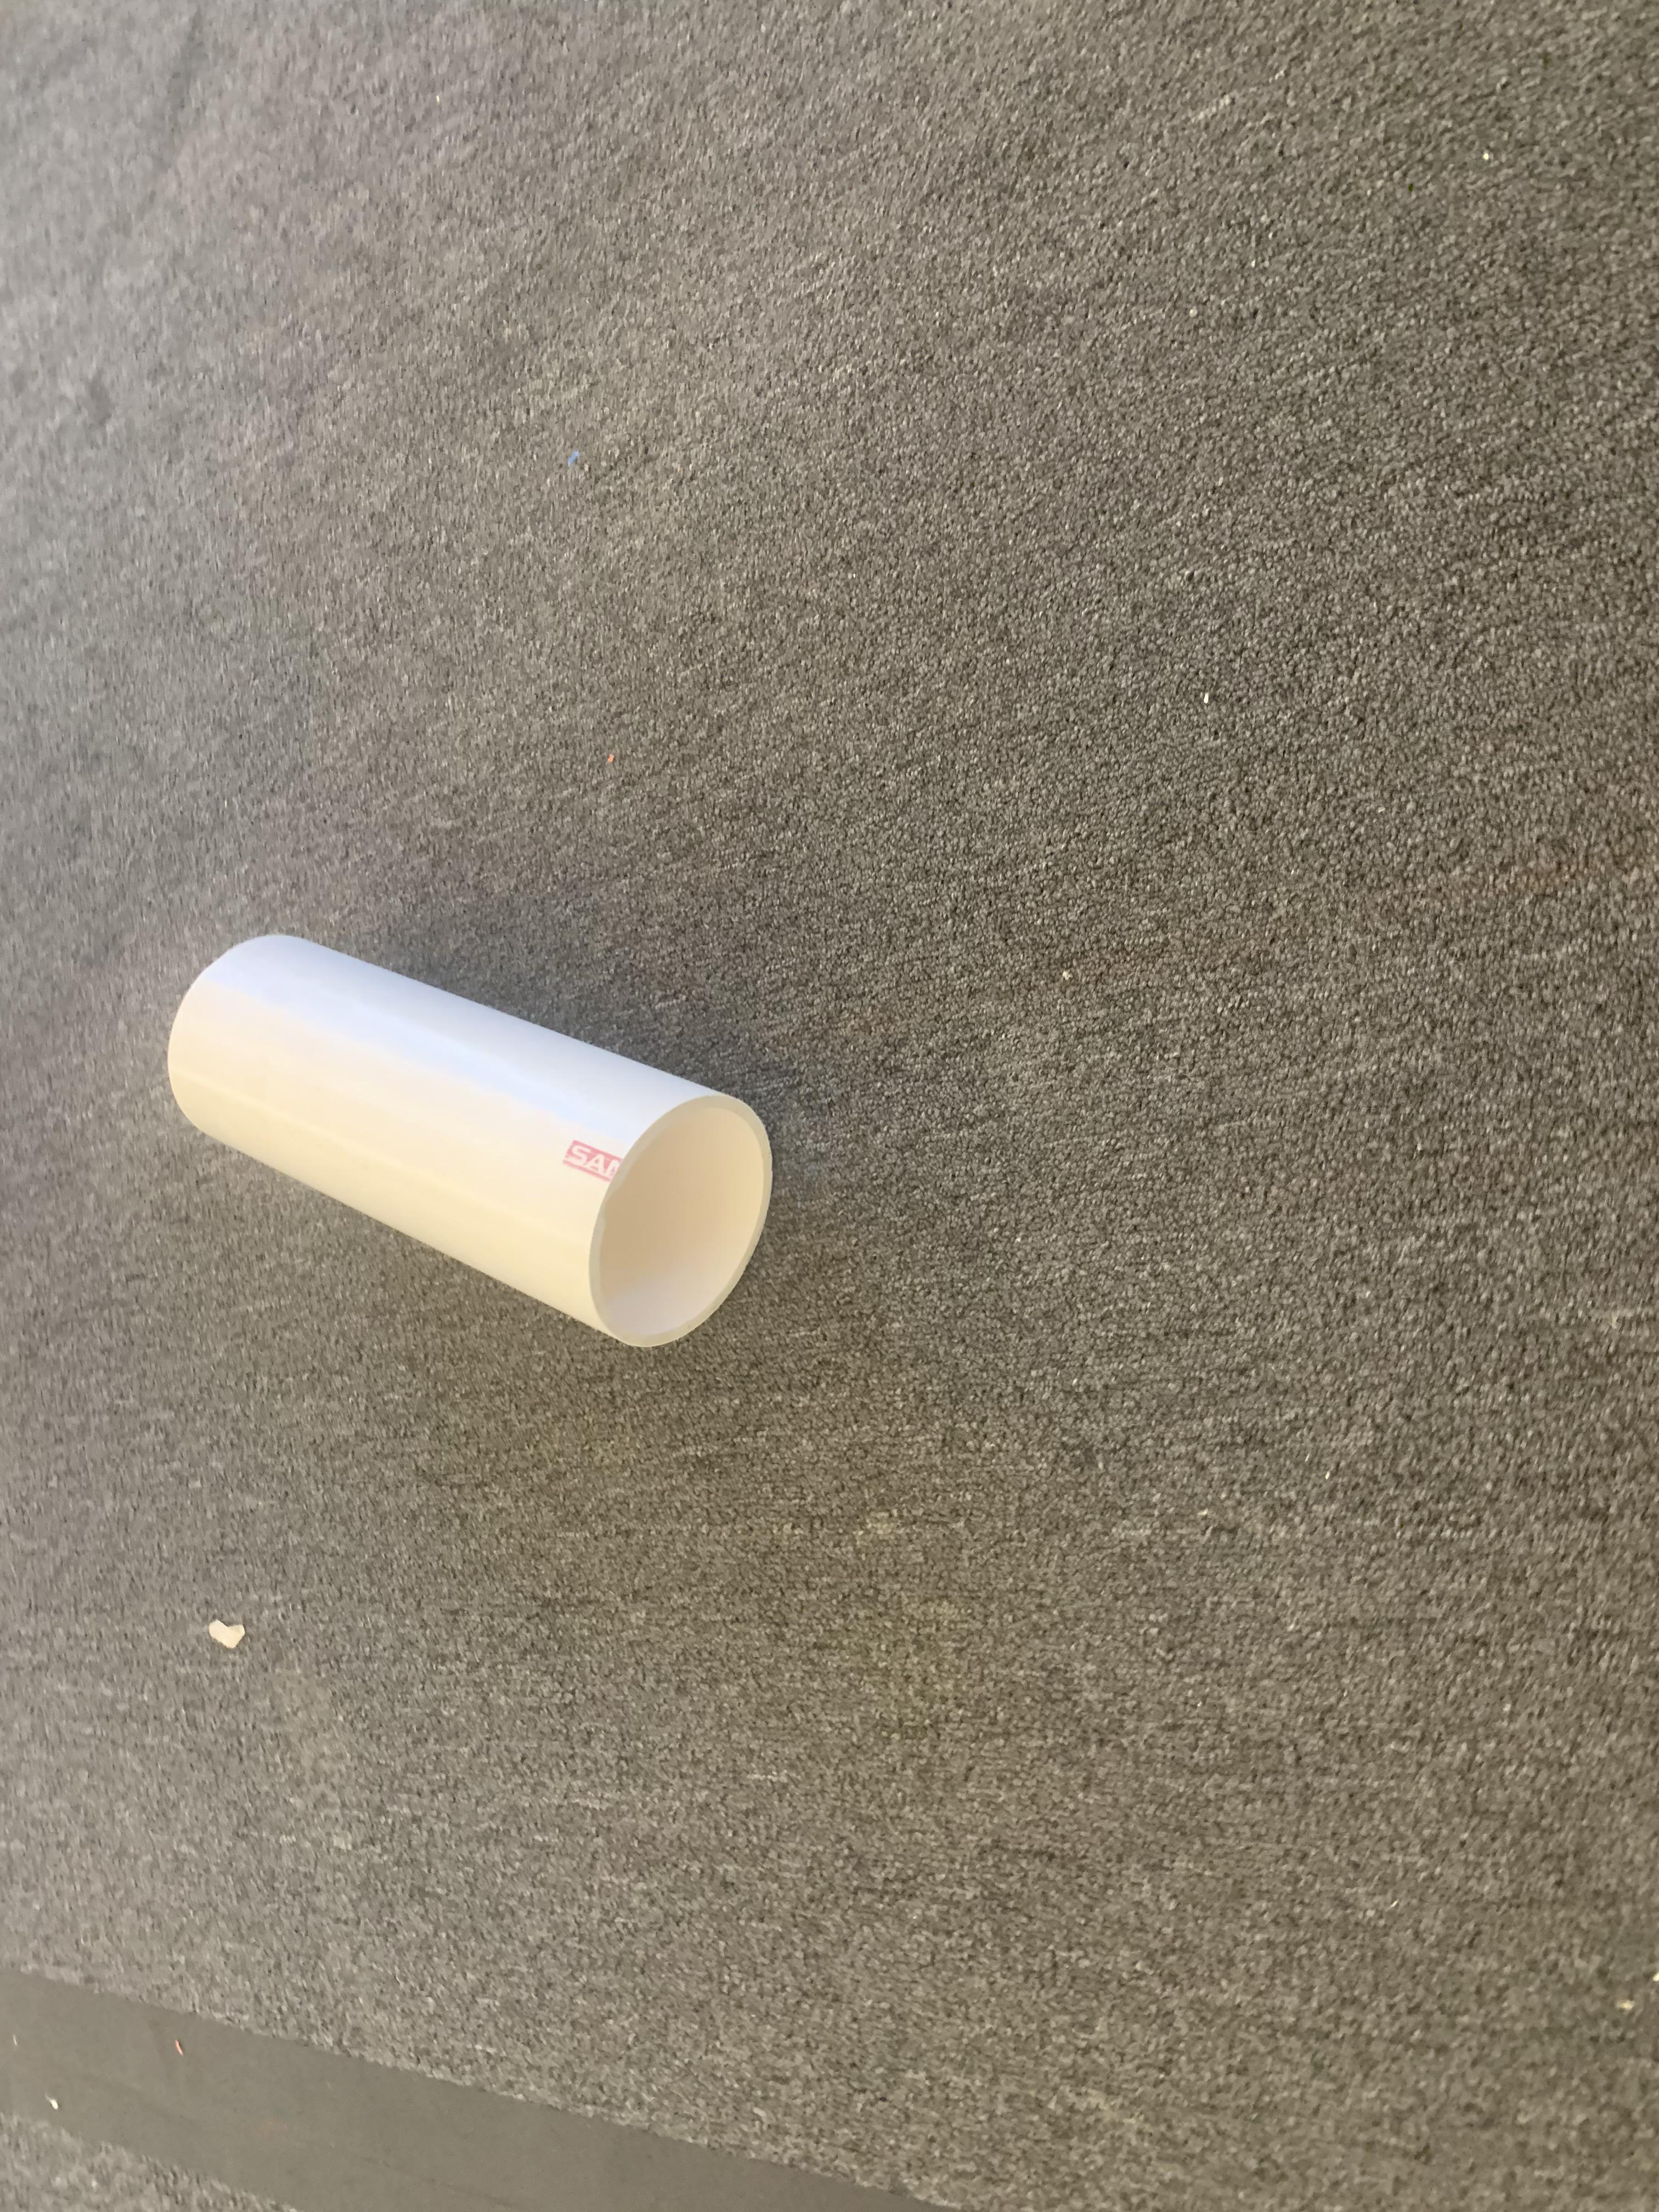coral: (162, 927, 775, 1352)
